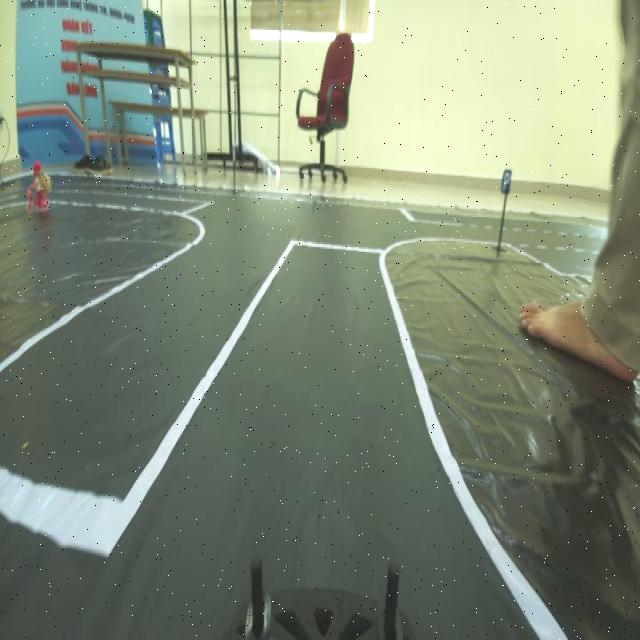parking: (497, 165, 516, 201)
